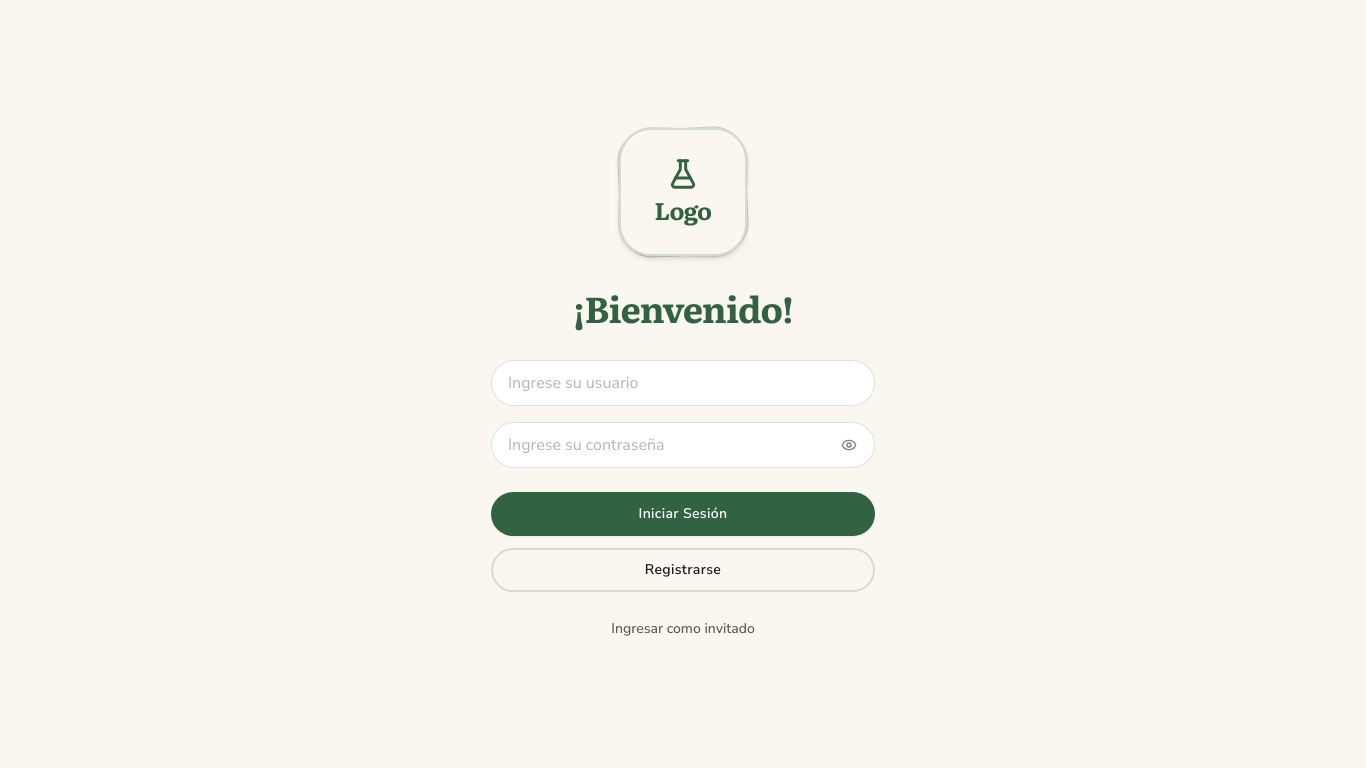
Scenario: App Component › allows entering as guest and displays Inventario by default, navigating to Dashboard
Step 1. Click the button "Ingresar como invitado" → [683, 629], box [611,619,755,639]
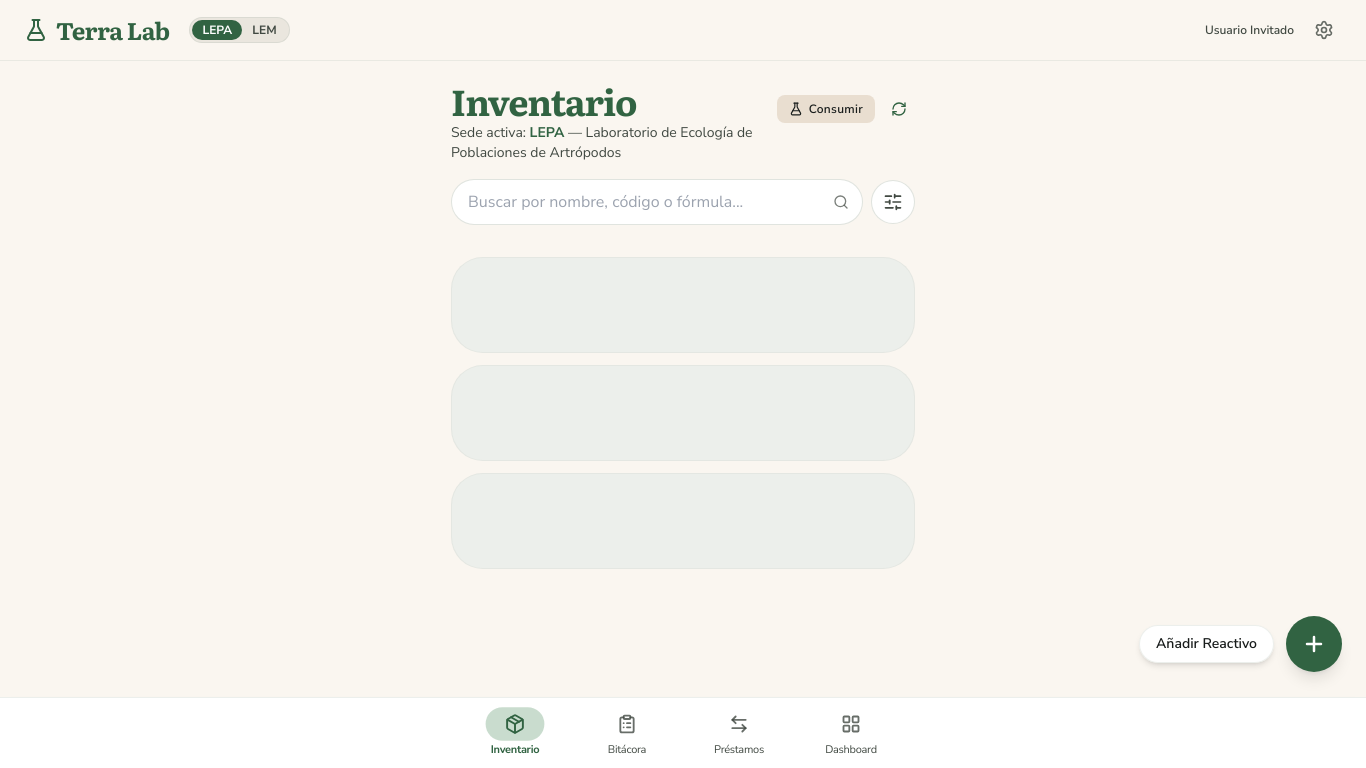
Check: the text "Terra Lab" is shown, box [56,14,169,46]
Check: the heading "Inventario" is shown, box [451,74,637,127]
Navigate to Dashboard tab
Step 2. Click the button "Dashboard" → [851, 733], box [811,704,891,762]
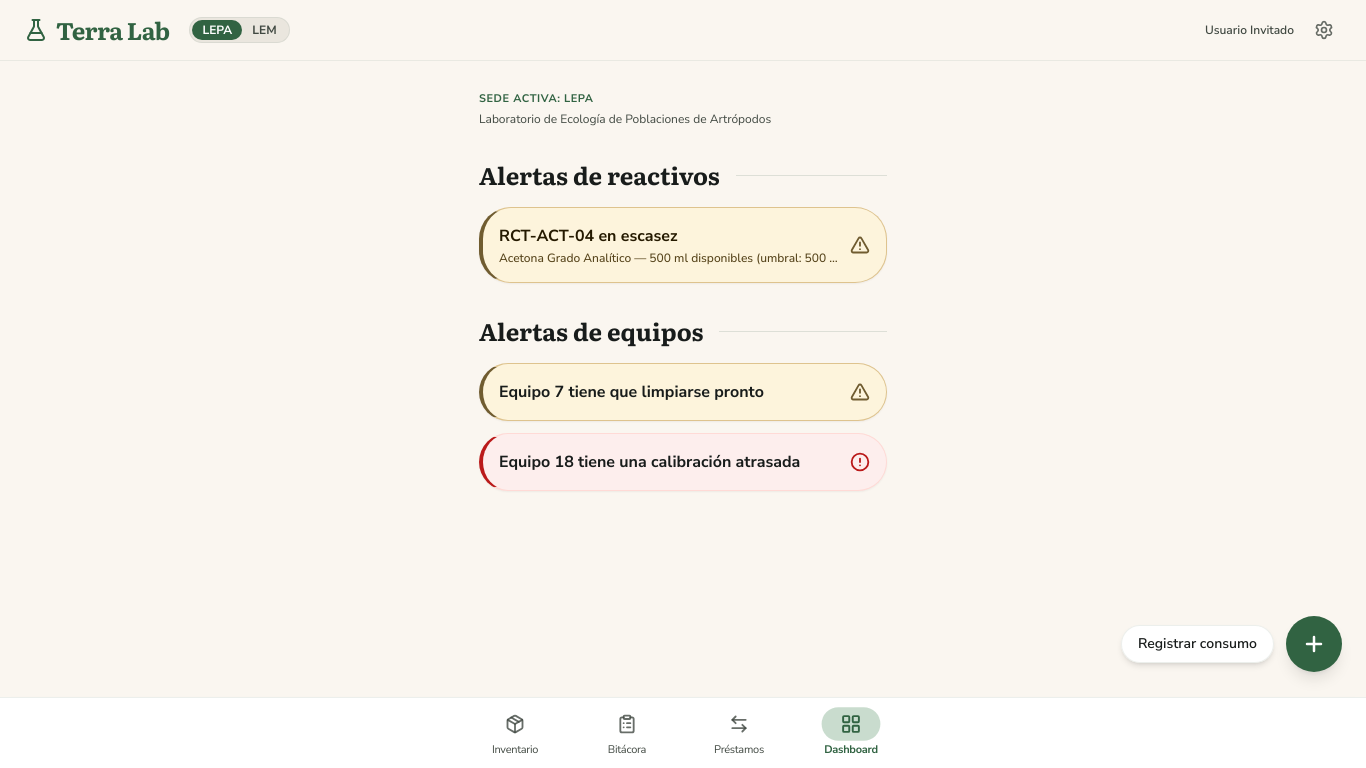
Check: the heading "Alertas de reactivos" is shown, box [479,159,720,191]
Navigate to Bitácora tab
Step 3. Click the button "Bitácora" → [627, 733], box [587,704,667,762]
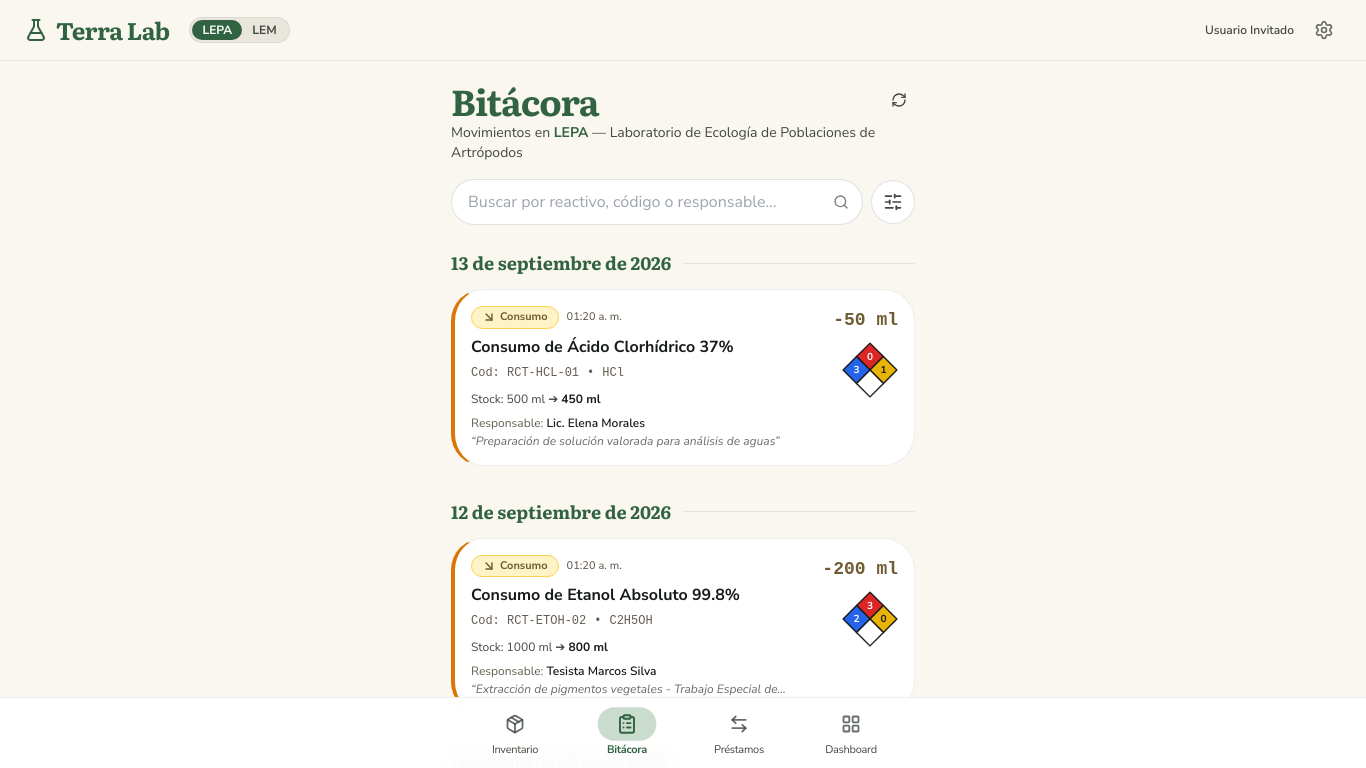
Check: the heading "Bitácora" is shown, box [451,74,599,127]
